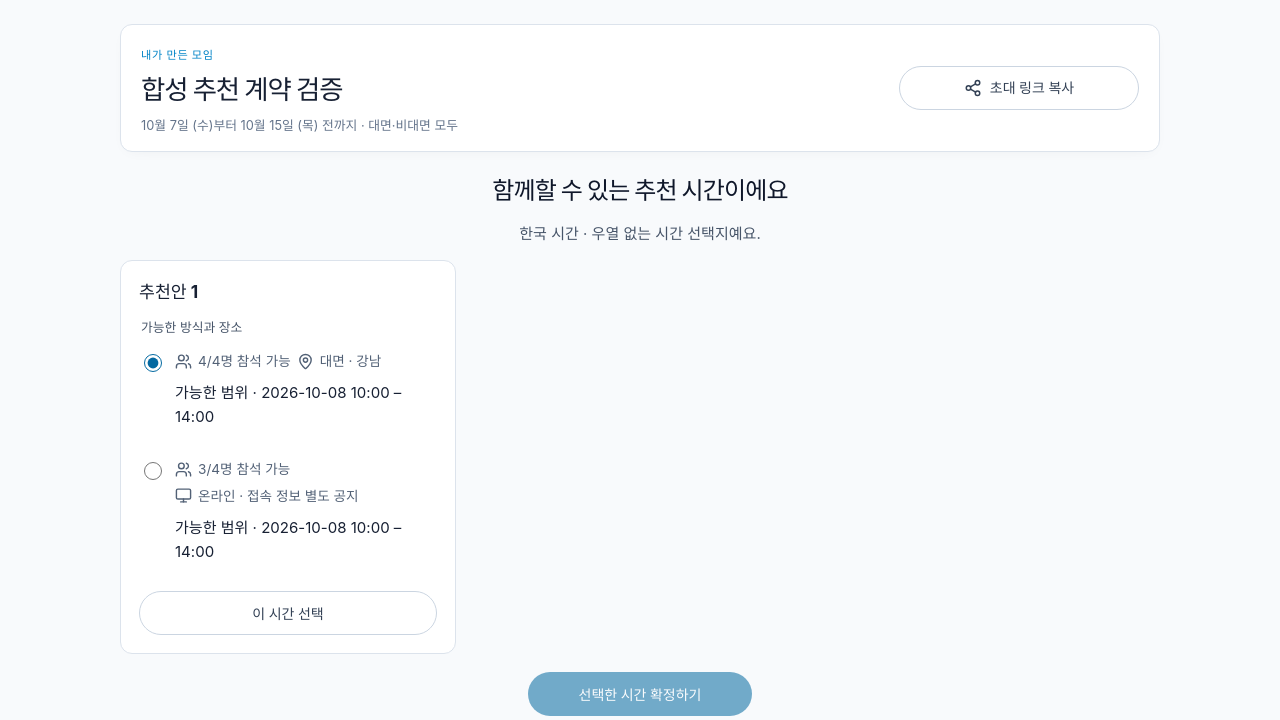
Test: #19 native confirmation and saved selection › reloads rather than accepting a confirmation whose returned start_at differs from the requested full tuple
Click the radio button labelled "온라인" at coordinates (153, 471), box [144,462,162,480]
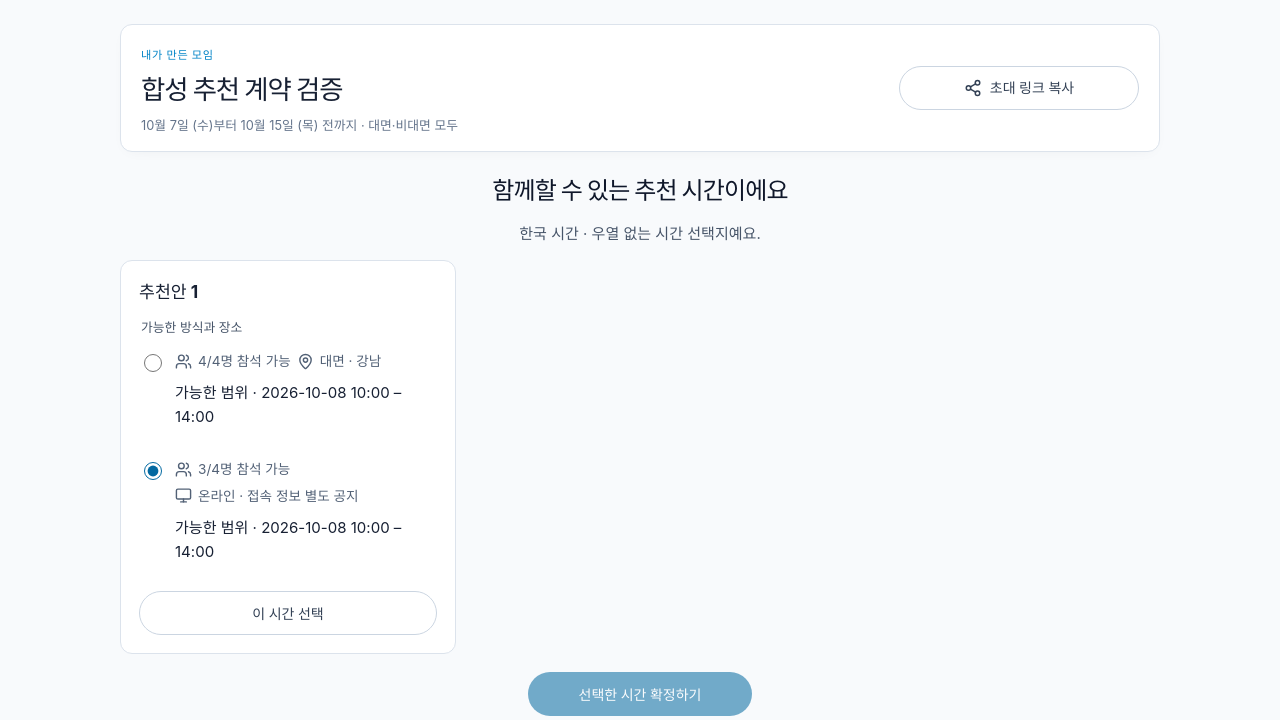
Click the button "이 시간 선택" at coordinates (288, 613), box [139,591,437,635]
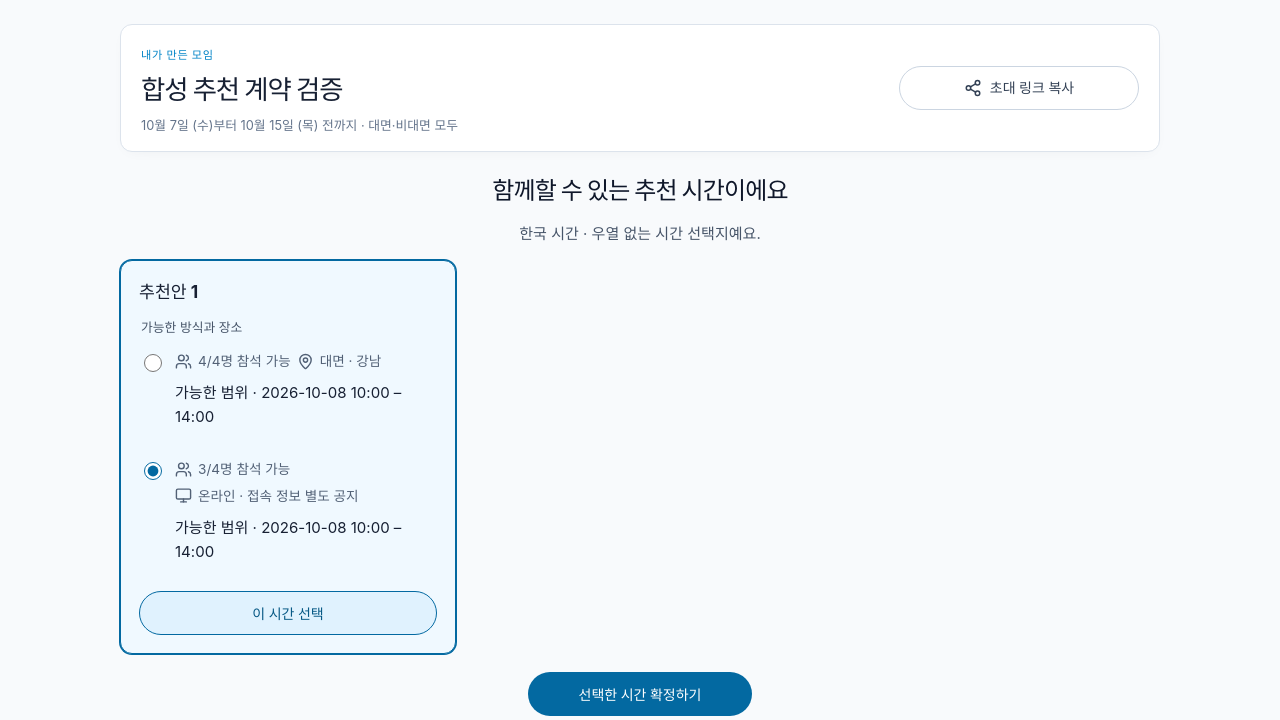
Click the button "선택한 시간 확정하기" at coordinates (640, 694), box [528,672,752,716]
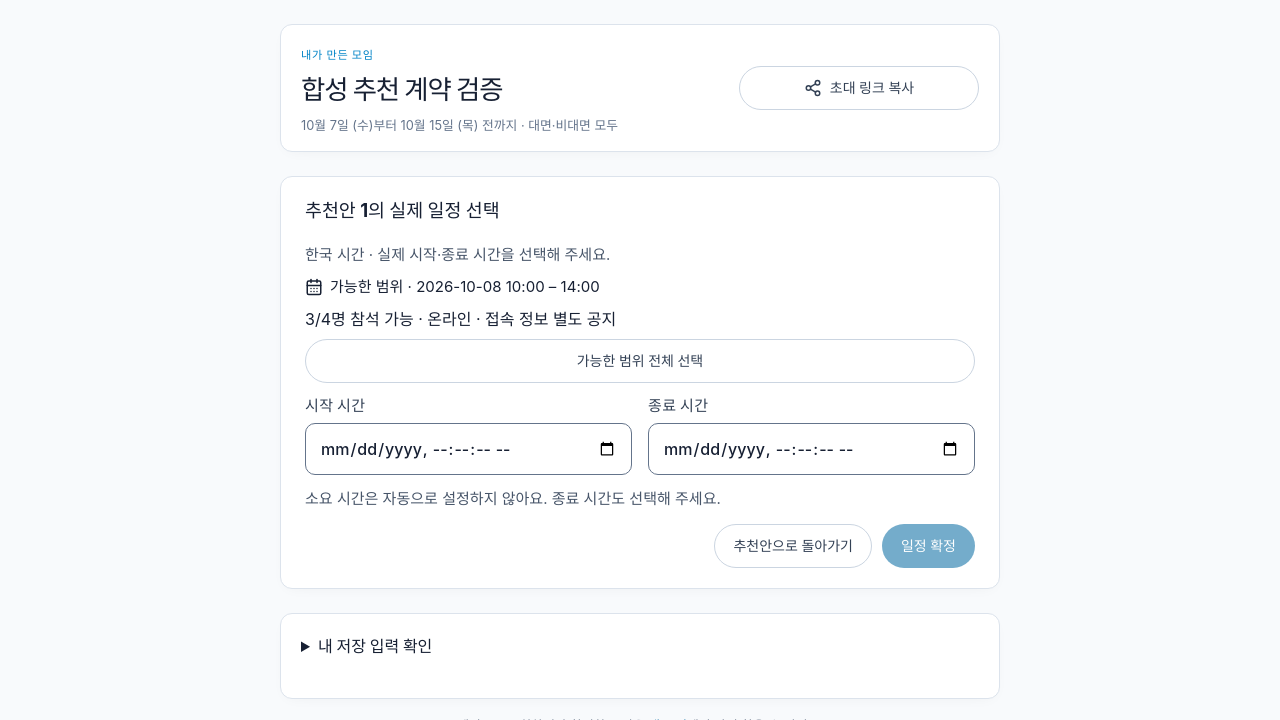
Type "2026-10-08T10:30" into the field labelled "시작 시간" at coordinates (468, 450), box [305,424,632,476]
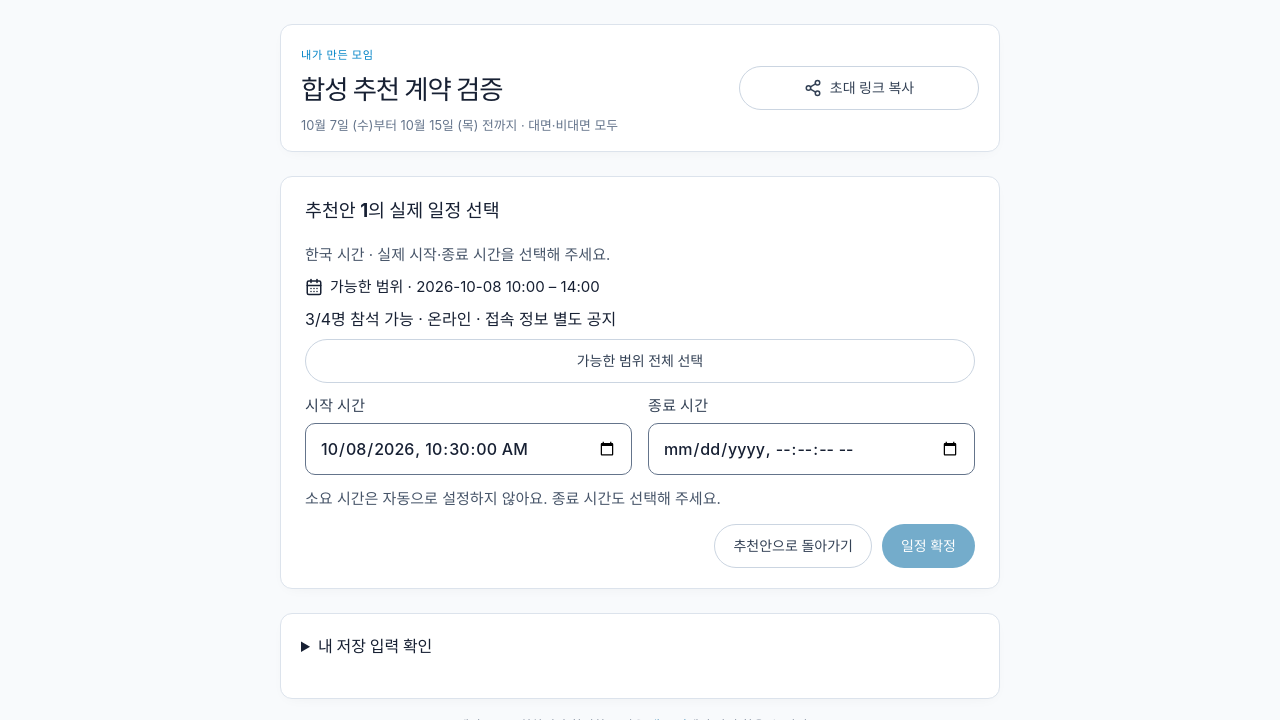
Type "2026-10-08T11:15" into the field labelled "종료 시간" at coordinates (812, 450), box [648,424,975,476]
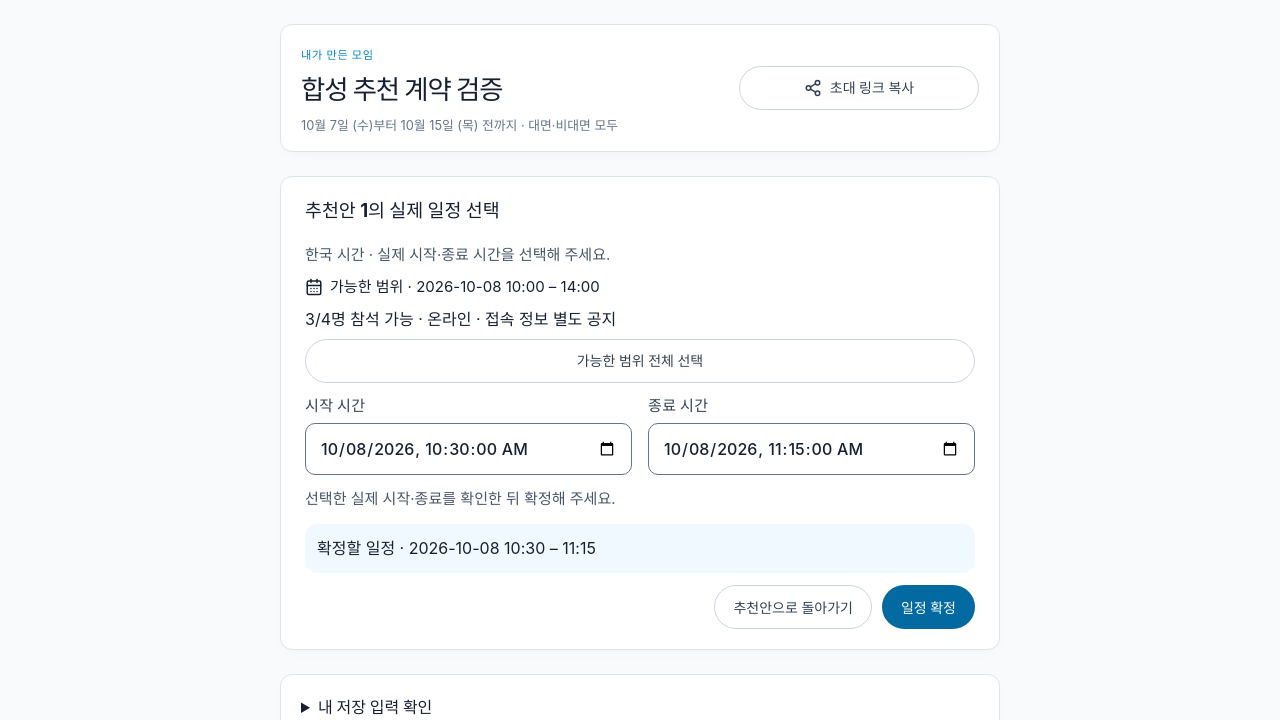
Click the button "일정 확정" at coordinates (928, 607), box [882,585,975,629]
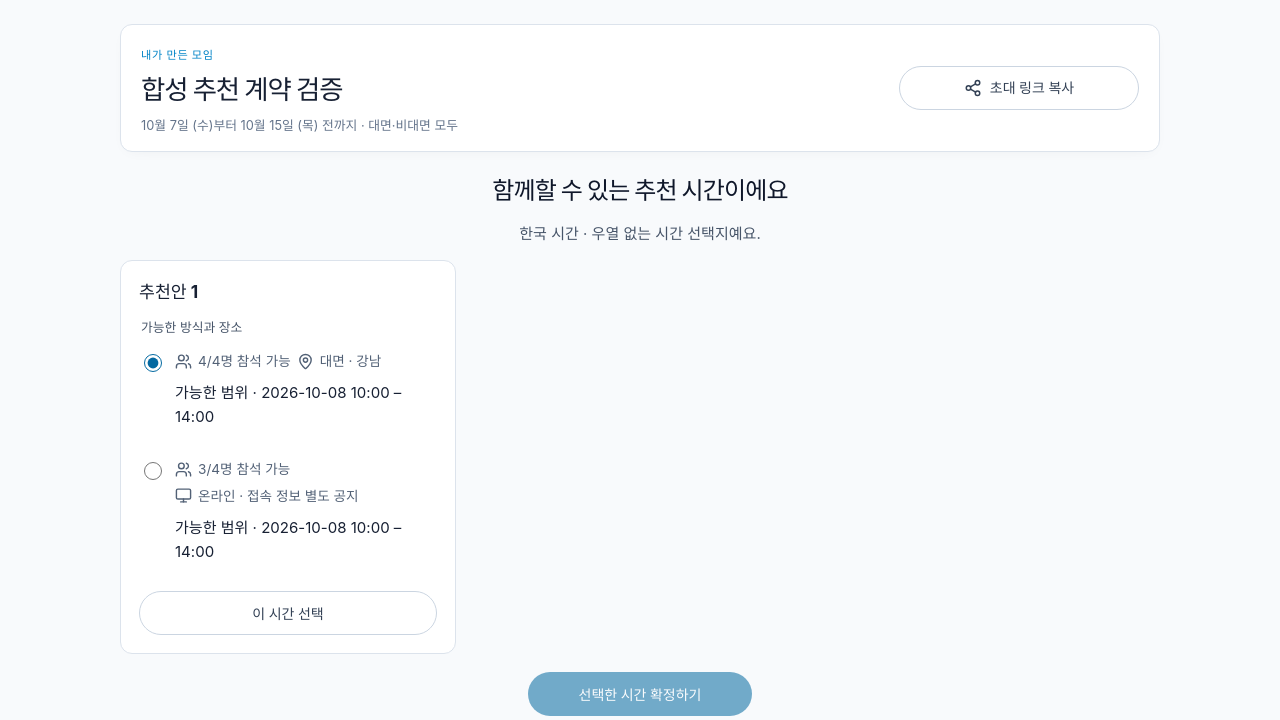
Now the text labelled "시작 시간" is gone
Now the text labelled "종료 시간" is gone
